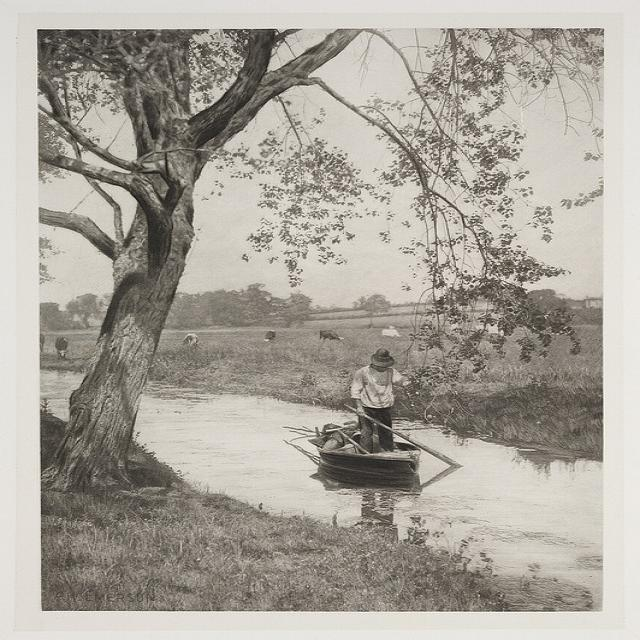cow: (53, 335, 67, 357), (316, 328, 343, 339), (379, 327, 399, 336), (183, 331, 197, 343), (263, 329, 275, 341)
